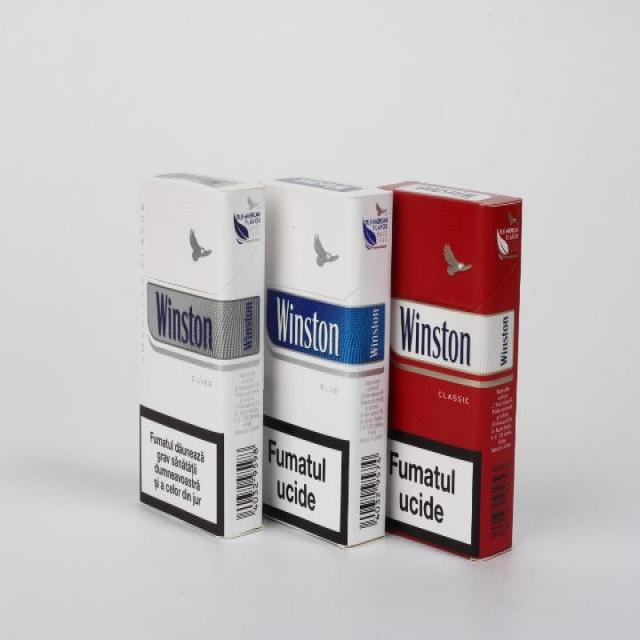winston: (372, 170, 522, 562), (256, 166, 390, 550), (138, 175, 267, 543)
